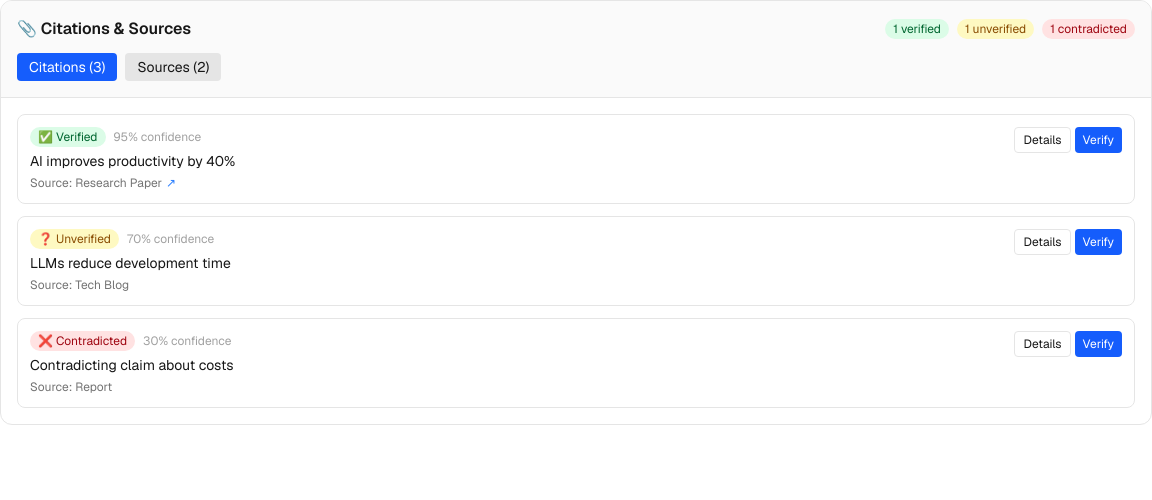
Scenario: CitationPanel Component › expands and collapses citation details
// Expand first citation
Click the button "Details" in the row of "95": [1042, 140] box top-left (1014, 127), bottom-right (1071, 153)
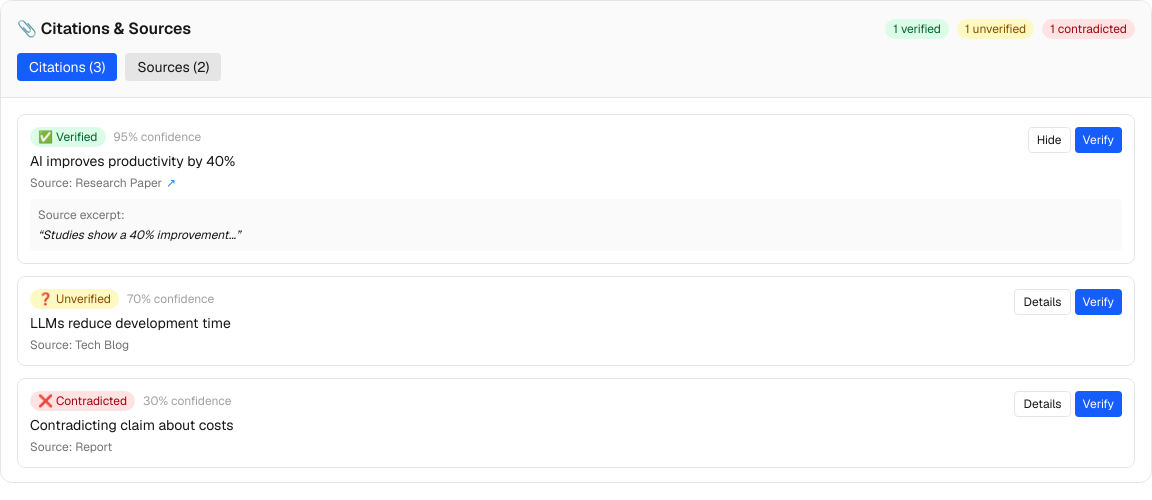
Expected: the text "“Studies show a 40% improvement...”" is shown, top-left (38, 227), bottom-right (240, 243)
Expected: the button "Hide" is shown
Click the button "Hide": [1049, 140] box top-left (1028, 127), bottom-right (1071, 153)
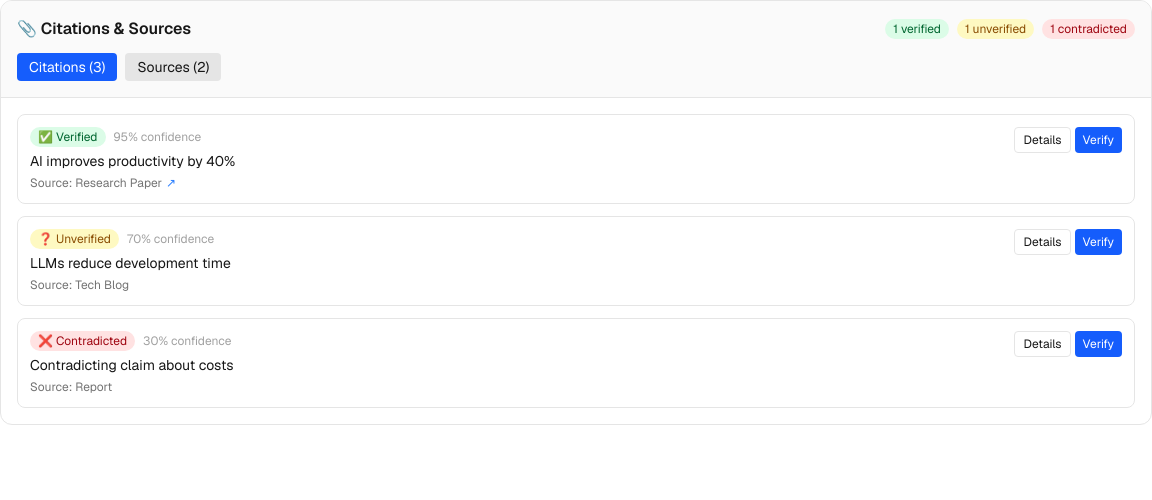
Expected: the text "Studies show a 40% improvement" is gone
